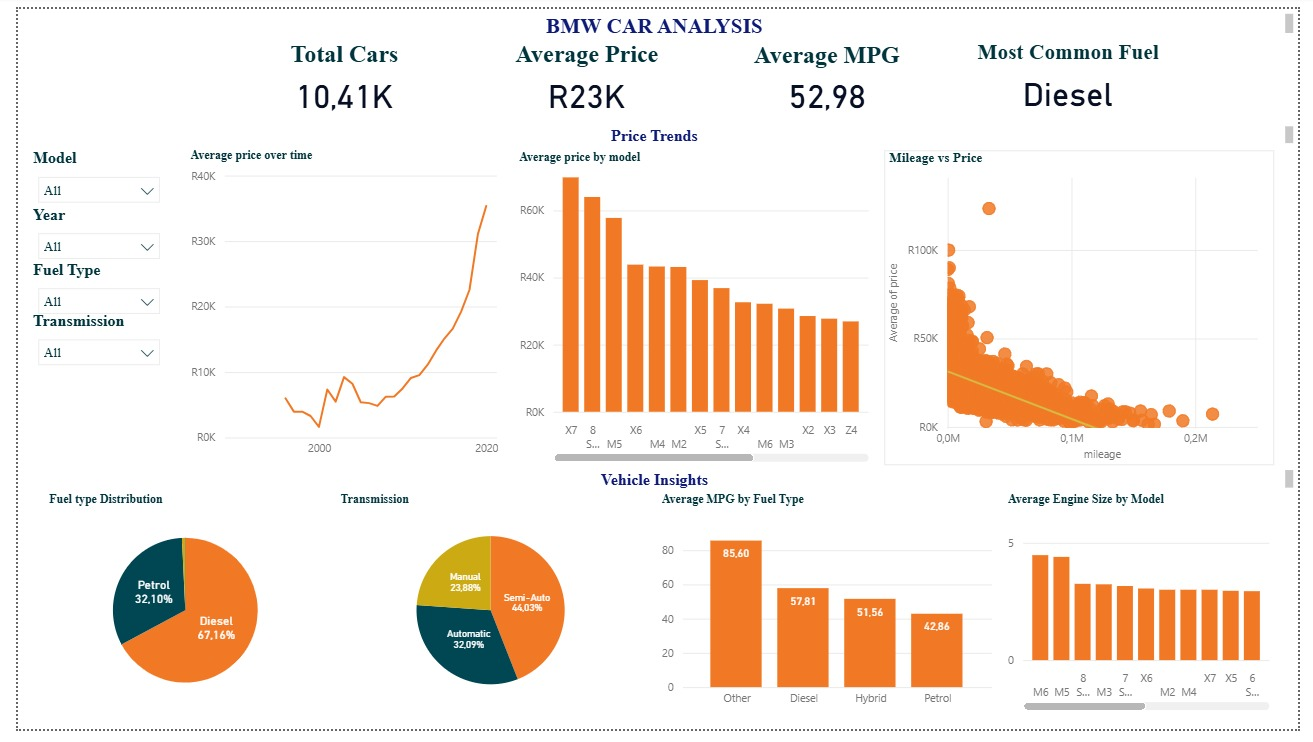

What the dashboard file says about the page in this screenshot:
{"tool":"powerbi","page":{"name":"Page 1","canvas":[1280,720],"ordinal":0},"visuals":[{"type":"textbox","box":[0,0,1280.3,31.8],"z":0},{"type":"card","title":"Total Cars","fields":{"Values":["CountNonNull(Table3.model)"]},"box":[218.9,31.8,215.2,80.7],"z":1000},{"type":"card","title":"Average Price","fields":{"Values":["Avg(Table3.price)"]},"box":[461,31.8,215.2,80.7],"z":2000},{"type":"card","title":"Average MPG","fields":{"Values":["Avg(Table3.mpg)"]},"box":[700.7,33,215.2,79.5],"z":3000},{"type":"card","title":"Most Common Fuel","fields":{"Values":["Table3.Most Common Fuel"]},"box":[942.8,31.8,215.2,80.7],"z":4000},{"type":"textbox","box":[0,112.5,1280.3,26.9],"z":5000},{"type":"slicer","title":"Model","fields":{"Values":["Table3.model"]},"box":[9.8,139.4,141.8,56.3],"z":6000},{"type":"slicer","title":"Year","fields":{"Values":["Table3.year"]},"box":[9.8,195.7,141.8,55],"z":7000},{"type":"slicer","title":"Fuel Type","fields":{"Values":["Table3.fuel_type"]},"box":[9.8,250.7,141.8,55],"z":8000},{"type":"slicer","title":"Transmission","fields":{"Values":["Table3.transmission"]},"box":[9.8,302,141.8,57.5],"z":9000},{"type":"lineChart","title":"Average price over time","fields":{"Category":["Table3.year"],"Y":["Avg(Table3.price)"]},"box":[167.5,139.4,317.9,316.7],"z":10000},{"type":"clusteredColumnChart","title":"Average price by model","fields":{"Category":["Table3.model"],"Y":["Avg(Table3.price)"]},"box":[496.5,140.6,359.5,316.7],"z":11000},{"type":"pieChart","title":"Fuel type Distribution","fields":{"Category":["Table3.fuel_type"],"Y":["CountNonNull(Table3.model)"]},"box":[25.7,484.2,282.5,222.6],"z":12000},{"type":"textbox","box":[0,456.1,1280.3,28.1],"z":13000},{"type":"pieChart","title":"Transmission","fields":{"Category":["Table3.transmission"],"Y":["CountNonNull(Table3.model)"]},"box":[317.9,484.2,310.6,222.6],"z":14000},{"type":"scatterChart","title":"Mileage vs Price","fields":{"X":["Table3.mileage"],"Y":["Avg(Table3.price)"]},"box":[865.8,140.6,390.1,315.5],"z":15000},{"type":"columnChart","title":"Average Engine Size by Model","fields":{"Y":["Avg(Table3.engine_size)"],"Category":["Table3.model"]},"box":[984.4,484.2,271.5,222.6],"z":16000},{"type":"columnChart","title":"Average MPG by Fuel Type","fields":{"Y":["Avg(Table3.mpg)"],"Category":["Table3.fuel_type"]},"box":[638.3,484.2,339.9,222.6],"z":17000}]}

Visuals, with their boxes in screenshot pixels (x1, y1, x2, y2), scaled from the page's 1280x720 canvas onto the 1313x742 screenshot:
textbox: [left=0, top=0, right=1312, bottom=33]
"Total Cars" card: [left=225, top=33, right=445, bottom=116]
"Average Price" card: [left=473, top=33, right=694, bottom=116]
"Average MPG" card: [left=719, top=34, right=940, bottom=116]
"Most Common Fuel" card: [left=967, top=33, right=1188, bottom=116]
textbox: [left=0, top=116, right=1312, bottom=144]
"Model" slicer: [left=10, top=144, right=156, bottom=202]
"Year" slicer: [left=10, top=202, right=156, bottom=258]
"Fuel Type" slicer: [left=10, top=258, right=156, bottom=315]
"Transmission" slicer: [left=10, top=311, right=156, bottom=370]
"Average price over time" lineChart: [left=172, top=144, right=498, bottom=470]
"Average price by model" clusteredColumnChart: [left=509, top=145, right=878, bottom=471]
"Fuel type Distribution" pieChart: [left=26, top=499, right=316, bottom=728]
textbox: [left=0, top=470, right=1312, bottom=499]
"Transmission" pieChart: [left=326, top=499, right=645, bottom=728]
"Mileage vs Price" scatterChart: [left=888, top=145, right=1288, bottom=470]
"Average Engine Size by Model" columnChart: [left=1010, top=499, right=1288, bottom=728]
"Average MPG by Fuel Type" columnChart: [left=655, top=499, right=1003, bottom=728]
